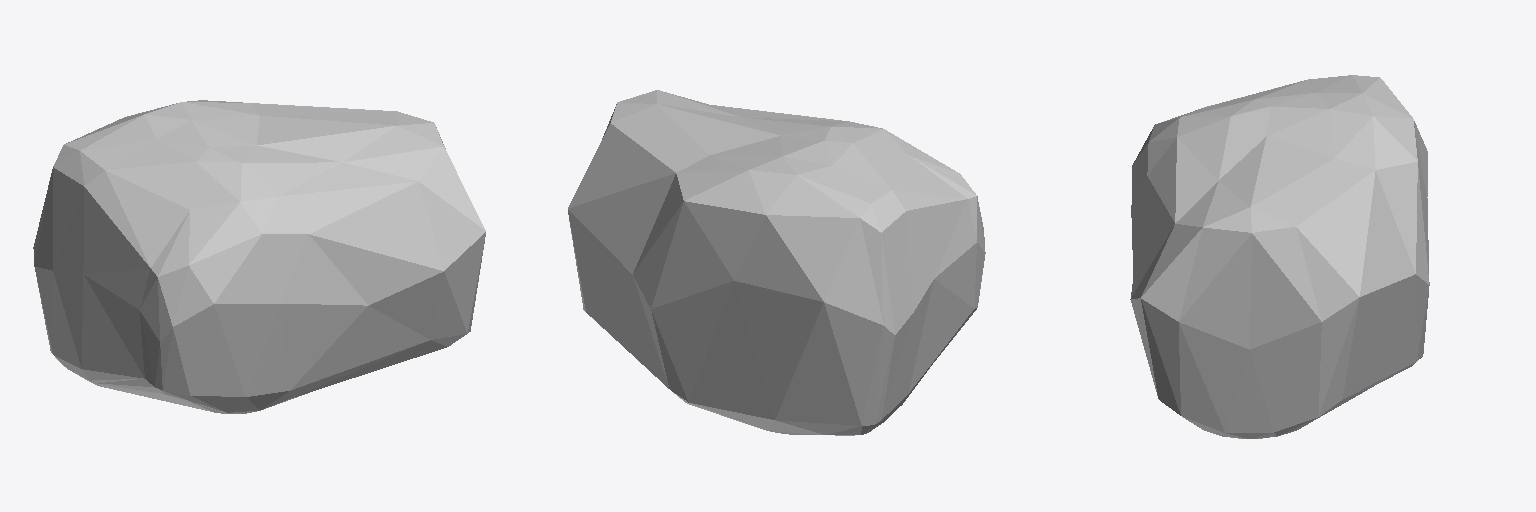
File: rear_left_hip_collision.obj
3 renders of one model, left to right at view 1: azimuth 30°, elevation 25°; view 2: azimuth 150°, elevation 25°; view 3: azimuth 270°, elevation 25°, orthographic.
Parts seen in each view (by area): view 1: rear_left_hip_collision; view 2: rear_left_hip_collision; view 3: rear_left_hip_collision.
Boxes of the visible parts, x1,y1,x2,y2 form: rear_left_hip_collision: [33, 100, 485, 413]; rear_left_hip_collision: [568, 90, 985, 435]; rear_left_hip_collision: [1130, 75, 1429, 438].
Size of the model in its own units: 0.1612 by 0.1135 by 0.1198.